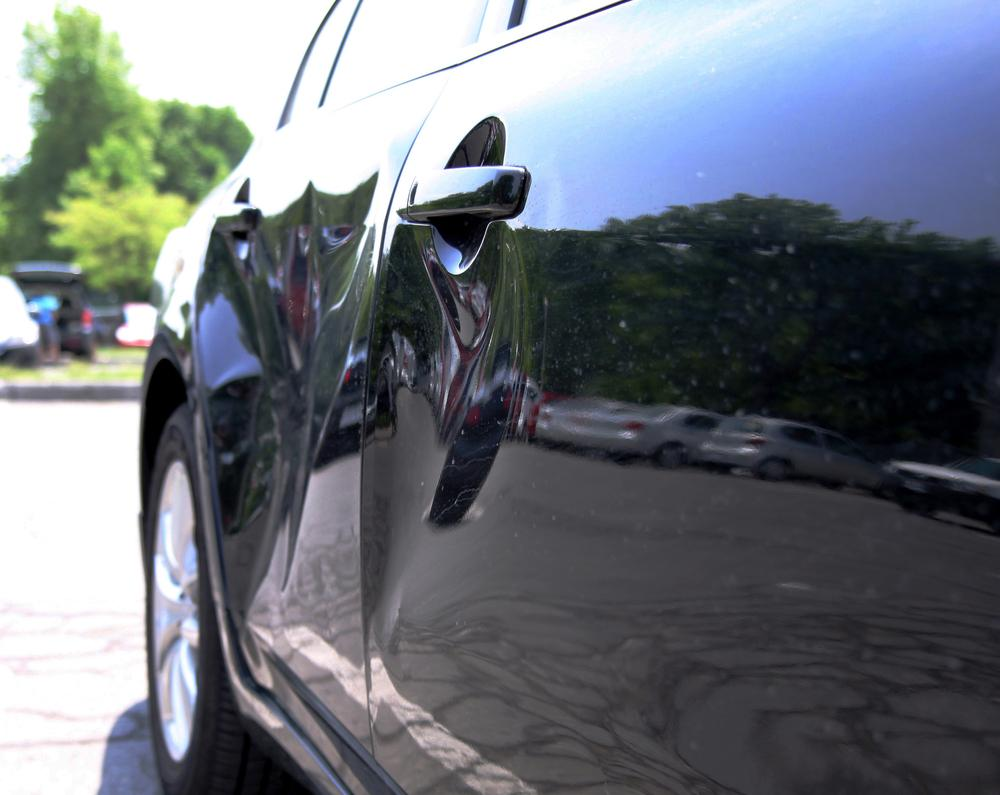dent: (197, 175, 380, 626), (359, 224, 527, 696)
